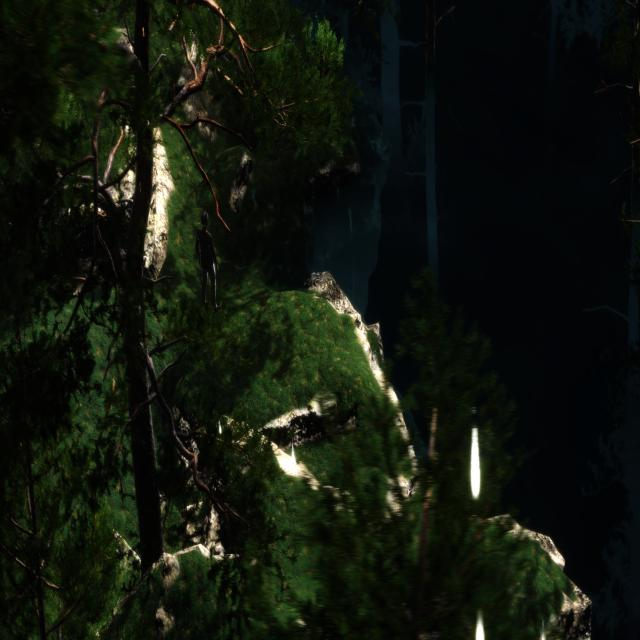Human: (192, 207, 222, 314)
